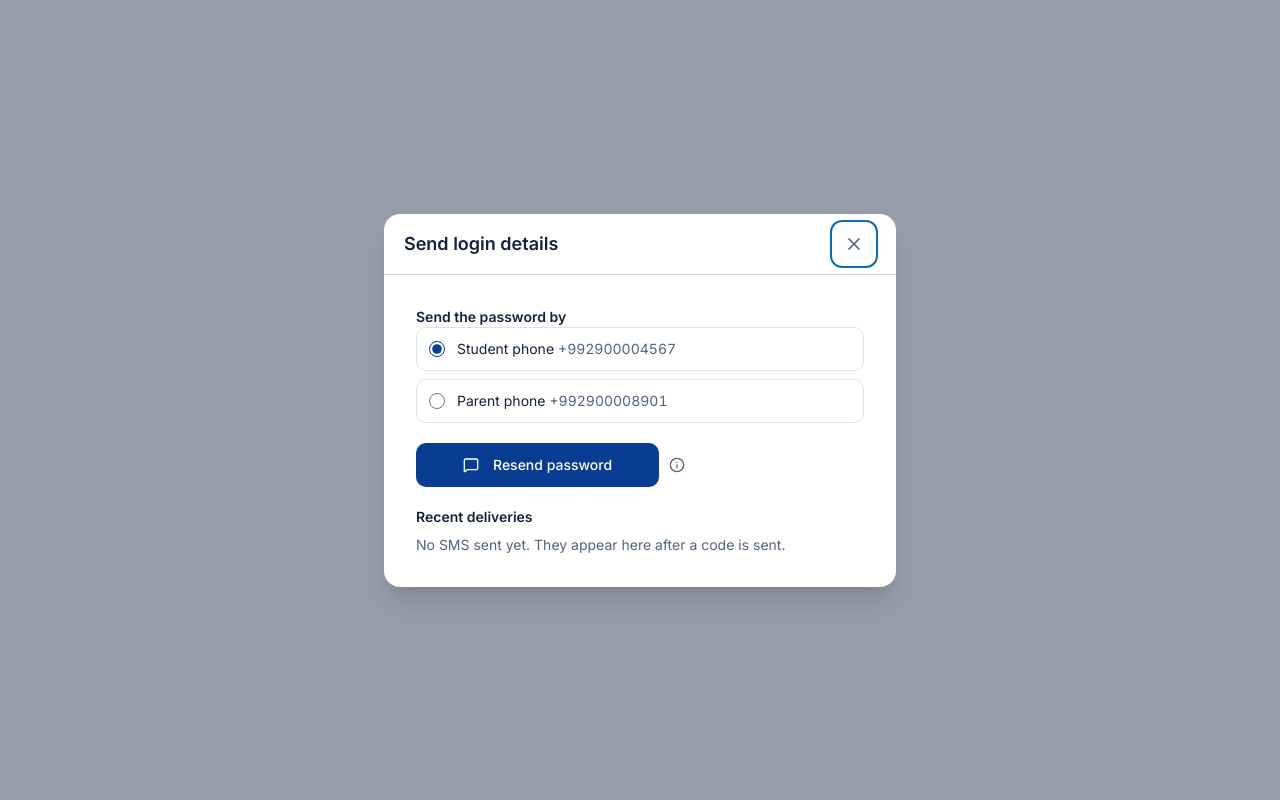
Scenario: StudentPasswordSmsDialog resend › sends through the first available channel and reports the masked phone
Check: the text "No SMS sent yet. They appear here after a code is sent." is shown, box top-left (416, 536), bottom-right (785, 552)
Click the button "Resend password".
click(538, 464)  # box top-left (416, 442), bottom-right (659, 486)
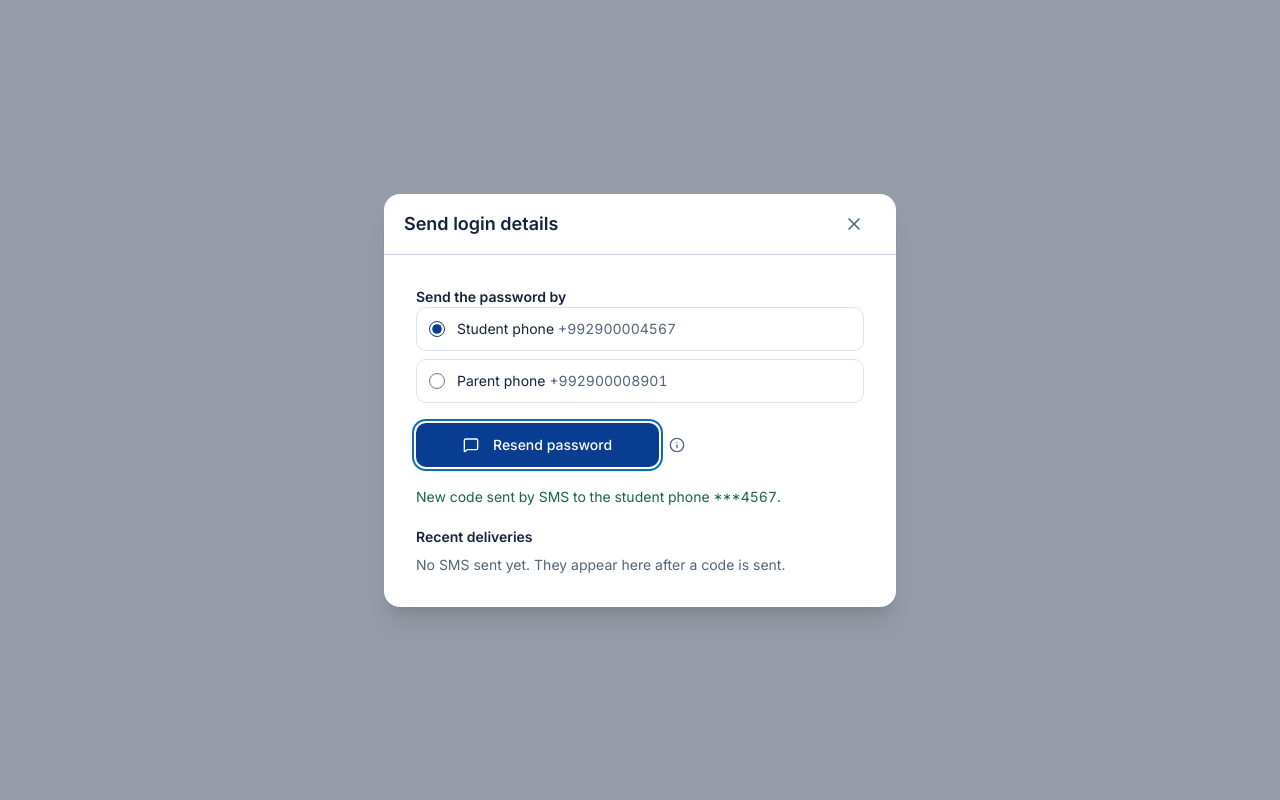
Check: the text "New code sent by SMS to the student phone ***4567." is shown, box top-left (416, 488), bottom-right (781, 504)
